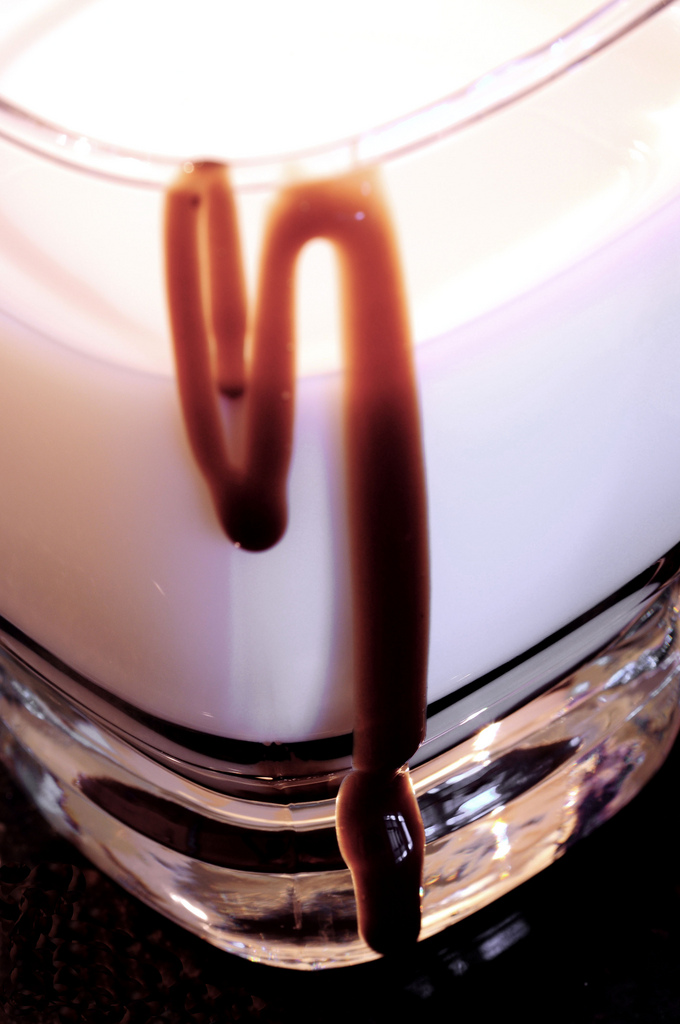glass of milk: (16, 7, 669, 976)
